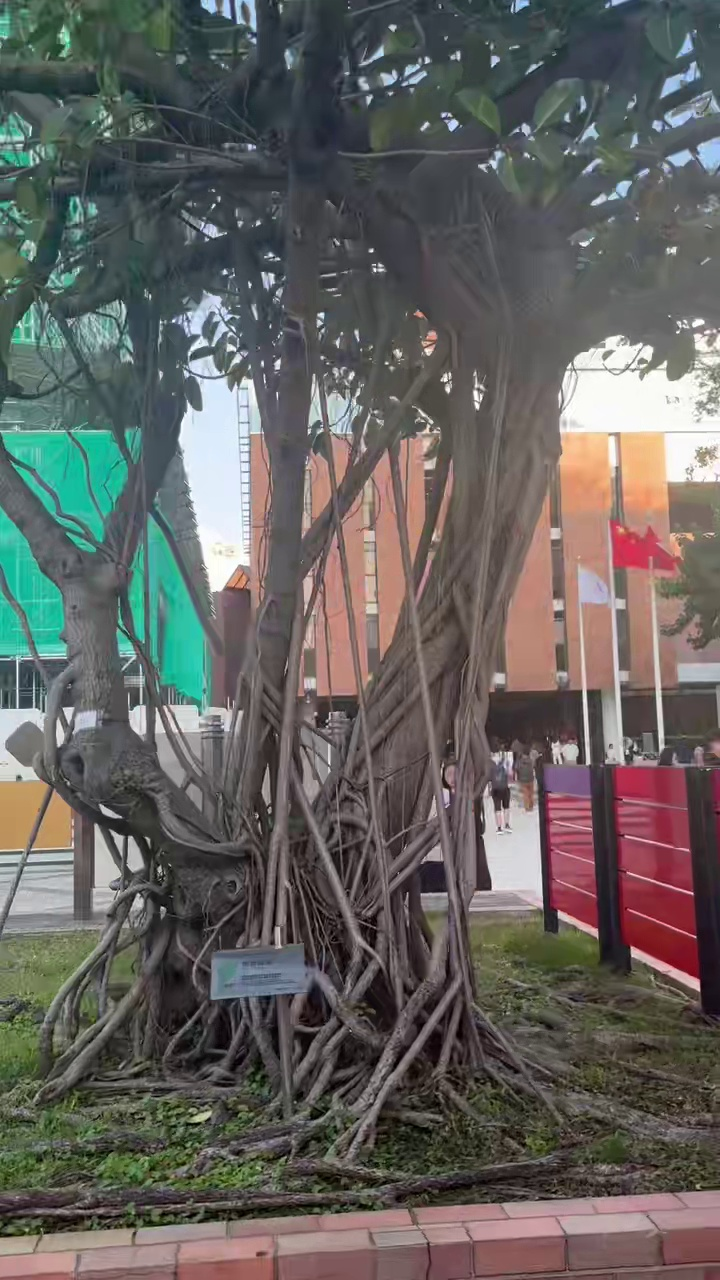Ficus elastica: (0, 0, 719, 1164)
